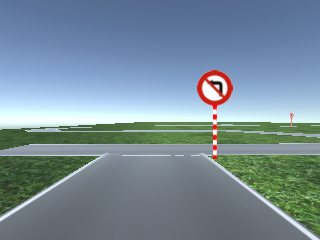-5: (1, 187, 320, 239)
NoLeft: (196, 69, 234, 106)
